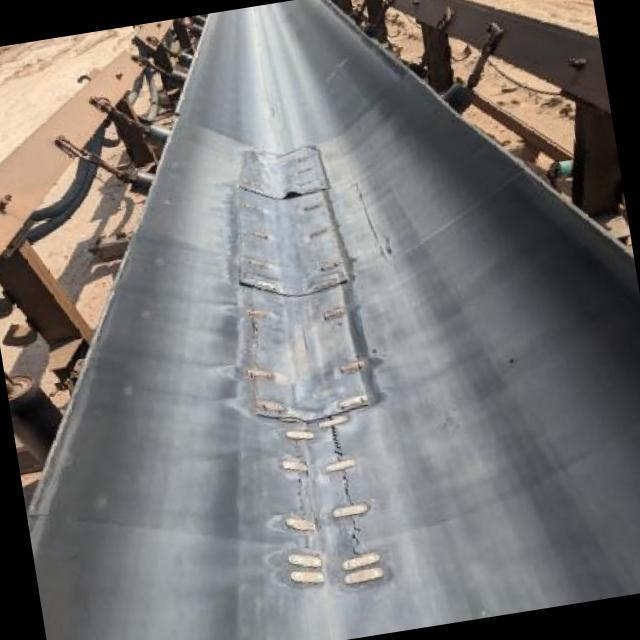Tear: (290, 474, 314, 520), (327, 424, 347, 466), (346, 515, 364, 559), (339, 468, 357, 508)
